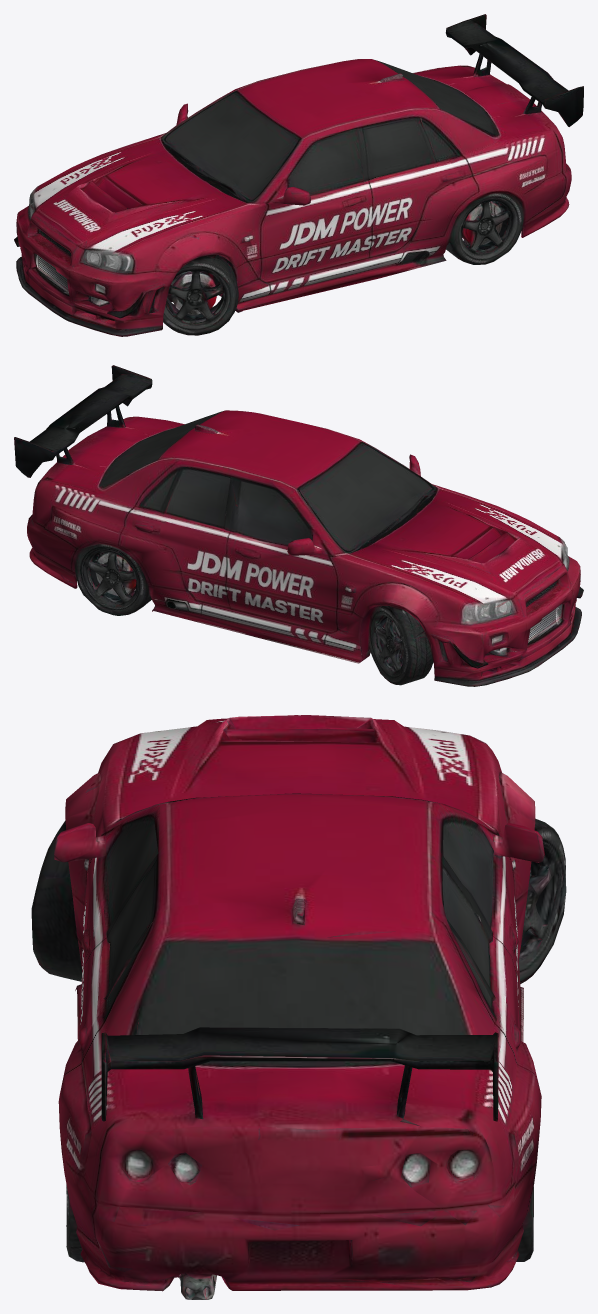
The model's file is car_toro.glb.
3 views of the same model, one above another, from view 1: azimuth 30°, elevation 25°; view 2: azimuth 150°, elevation 25°; view 3: azimuth 270°, elevation 25° (orthographic). The views are drawn at different scales.
Visible parts, largest first — view 1: Mesh_0; view 2: Mesh_0; view 3: Mesh_0.
Part boxes in pixels (bbox=[...]): Mesh_0: bbox=[14, 14, 583, 336]; Mesh_0: bbox=[14, 365, 583, 686]; Mesh_0: bbox=[31, 715, 566, 1299].
Bounding box in the file's own units: 1.9 × 0.5766 × 0.8932.
1 material, 1 textured.
